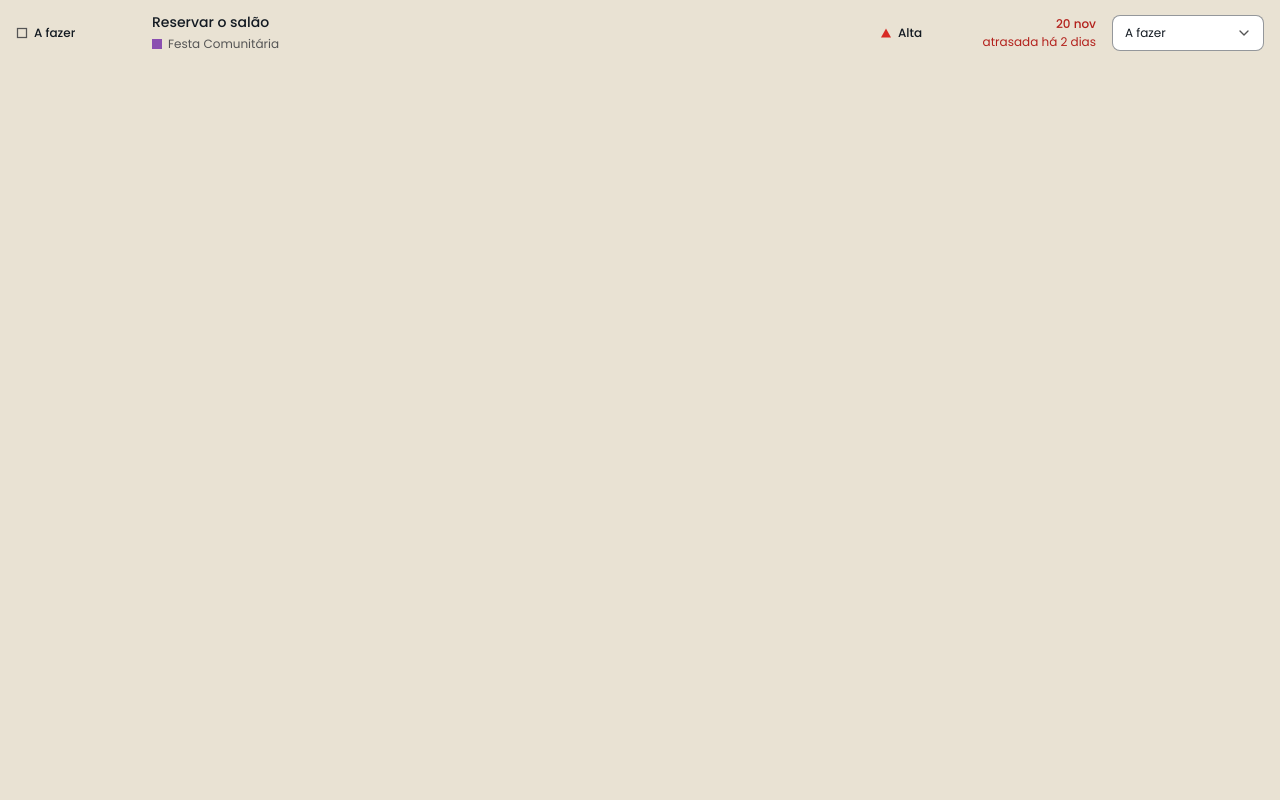
Test: TaskRow › moves the task to the end of the new column and confirms
This screenshot has width=1280, height=800.
Step 1. Select "Concluído" in the dropdown named "Status de Reservar o salão" → (1188, 32), box x1=1112 y1=14 x2=1264 y2=50
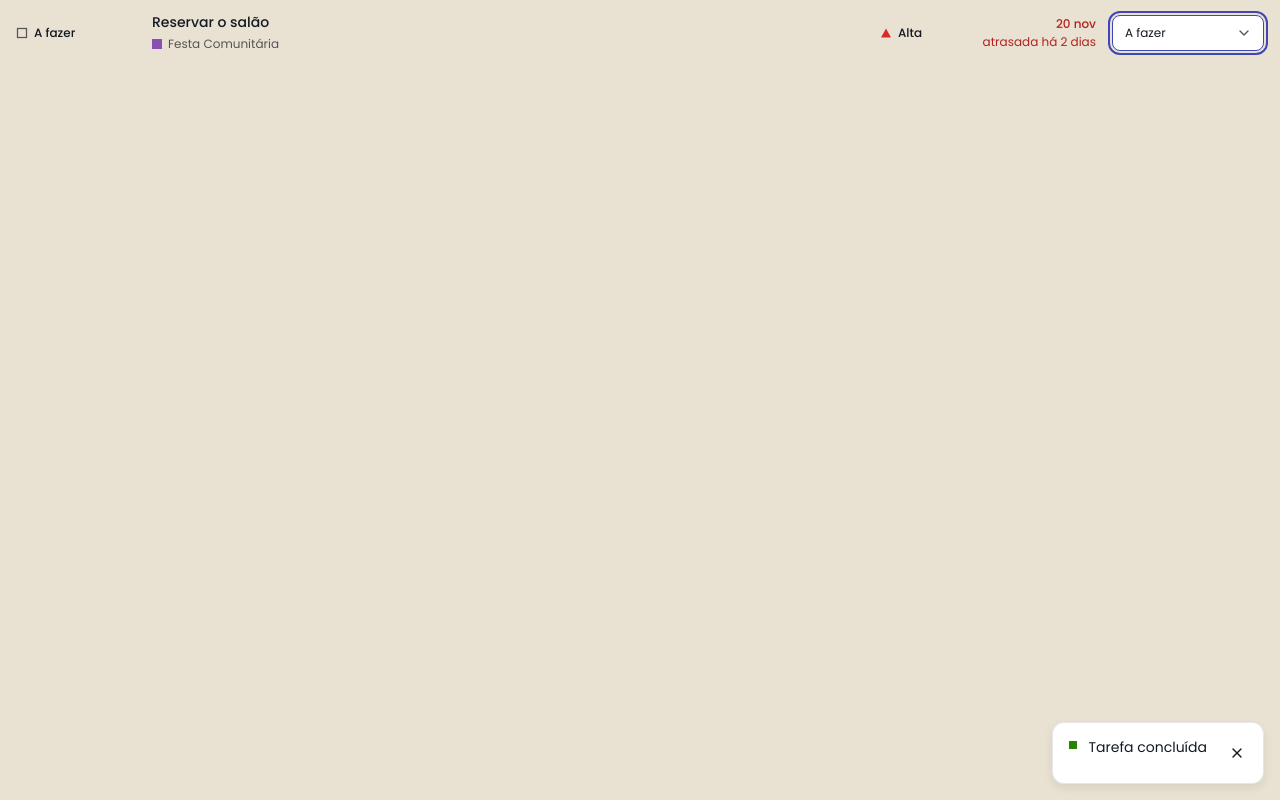
Result: the text "Tarefa concluída" is shown at x1=1088 y1=735 x2=1207 y2=758
